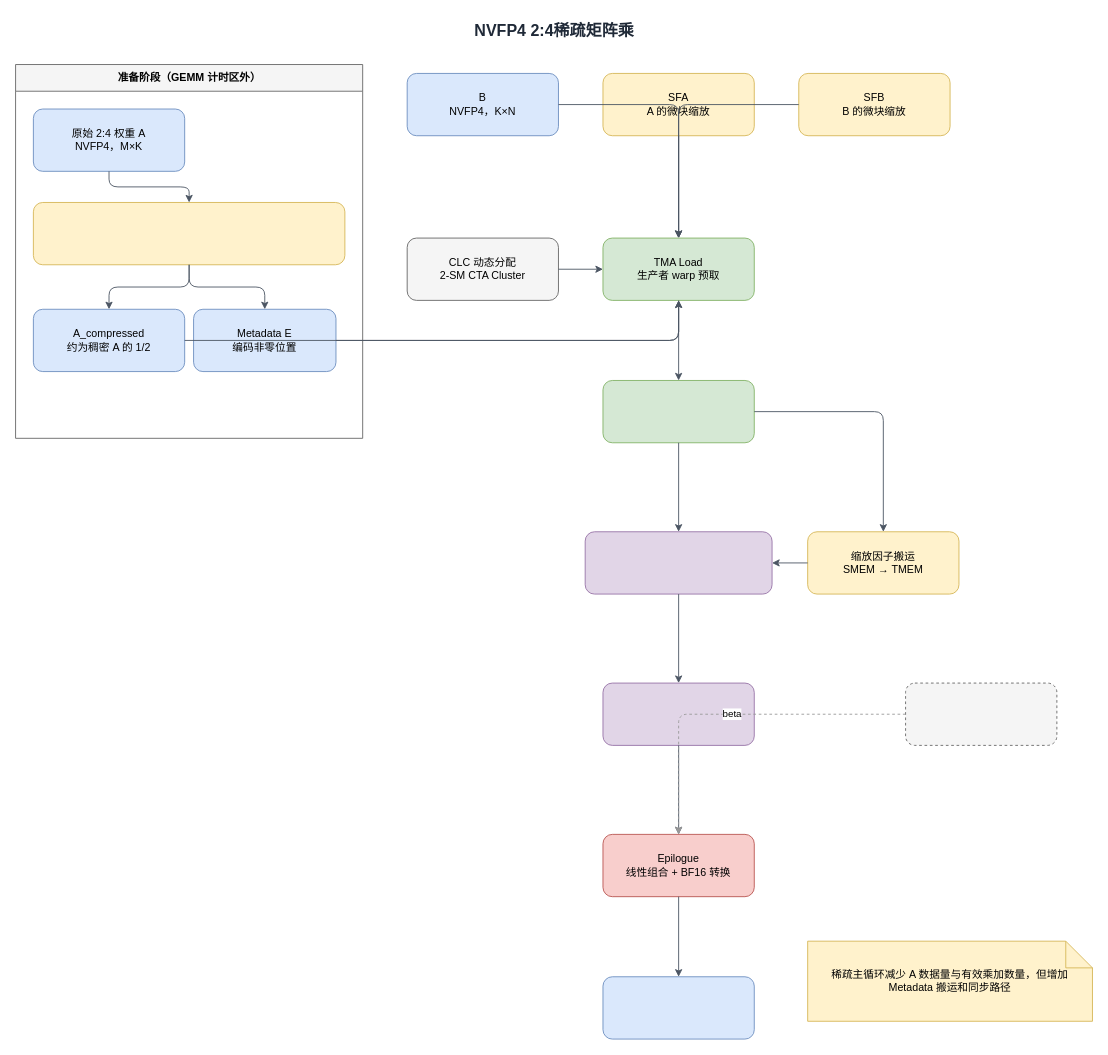
Some shapes in this 1108 by 1055 pixel diagram are drawn without their labels. The centre of each missing label's shape, as x and y in pixels:
Block-scaled Sparse UMMA E 选择非零值后与 B 乘加: pixel 678 562
D BF16，M×N: pixel 678 1007
FP32 累加 结果保存在 TMEM: pixel 678 713
SMEM 多级缓冲 压缩 A、B、E、SFA/SFB: pixel 678 411
StructuredSparseCompressor 每 4 个元素保留 2 个: pixel 188 233
可选 C 当前 beta=0 不读取: pixel 981 713
